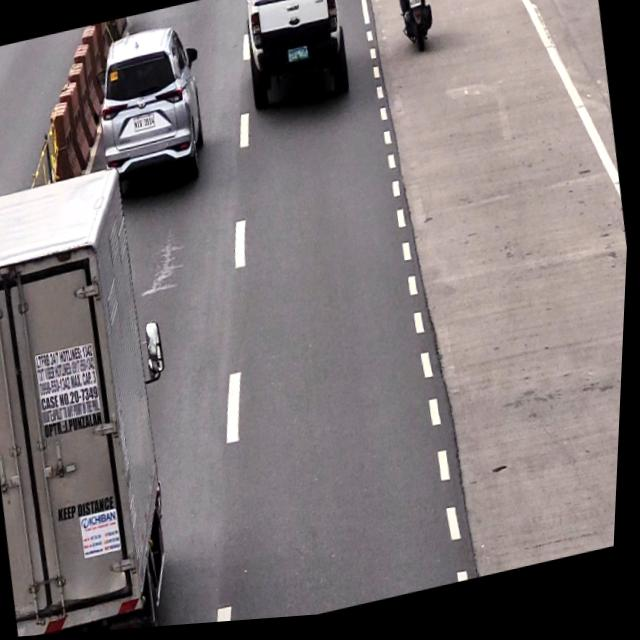Car: (87, 28, 216, 193), (234, 0, 355, 122)
License-Plate: (133, 111, 160, 133), (285, 46, 312, 68), (406, 0, 424, 17)
Motorcycle: (388, 0, 437, 55)
Truck: (0, 164, 197, 640)
